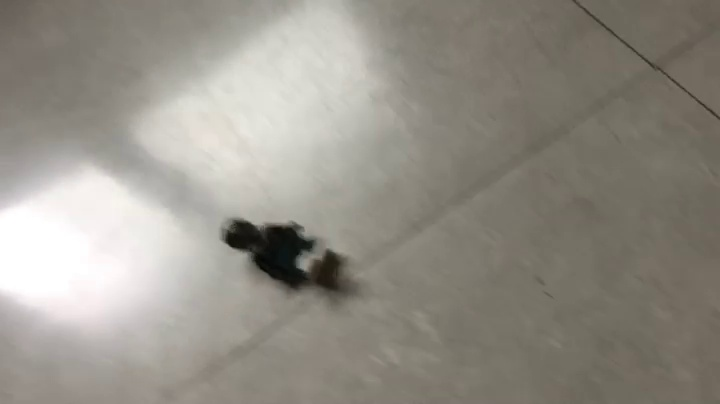people: (219, 218, 344, 292)
